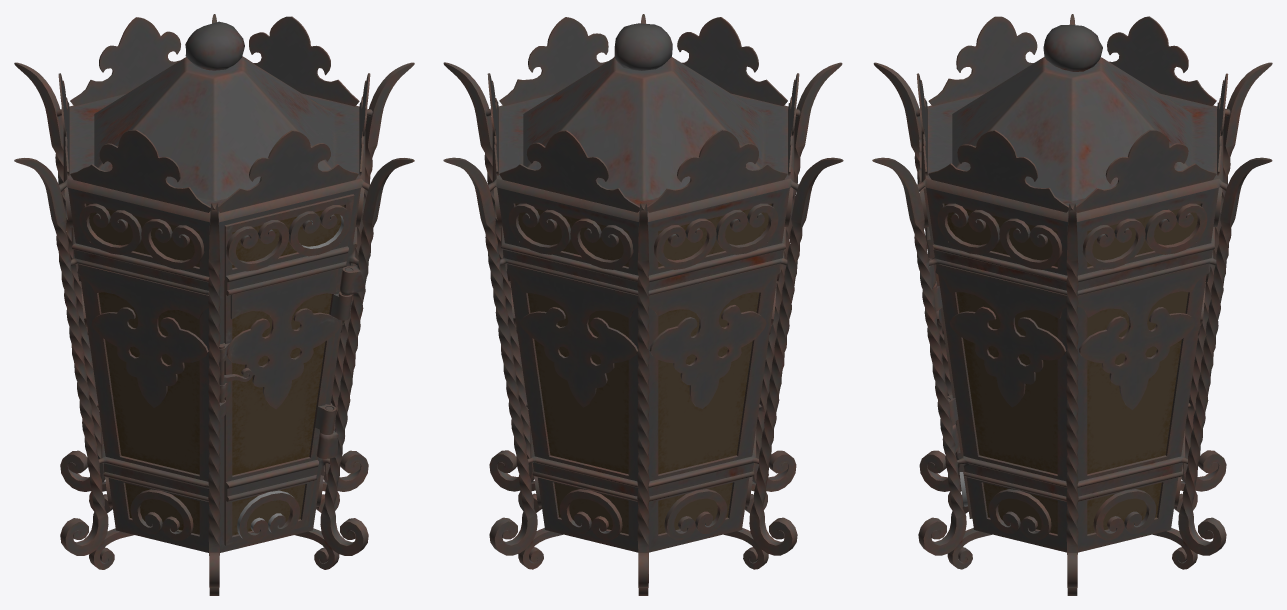
The picture shows the model from 3 angles, left to right: view 1: azimuth 30°, elevation 25°; view 2: azimuth 150°, elevation 25°; view 3: azimuth 270°, elevation 25°; orthographic projection.
Parts seen in each view (by area): view 1: node_Lantern_Main_-1022_4, node_Lantern_Door_-1016_1, node_Lantern_MainGlass_-1024_5, node_Lantern_DoorGlass_-1018_2; view 2: node_Lantern_Main_-1022_4, node_Lantern_MainGlass_-1024_5; view 3: node_Lantern_Main_-1022_4, node_Lantern_MainGlass_-1024_5, node_Lantern_Door_-1016_1.
Boxes of the visible parts, x1,y1,x2,y2 form: node_Lantern_Main_-1022_4: (14, 14, 414, 595); node_Lantern_Door_-1016_1: (219, 194, 354, 545); node_Lantern_MainGlass_-1024_5: (86, 204, 199, 534); node_Lantern_DoorGlass_-1018_2: (232, 205, 344, 535); node_Lantern_Main_-1022_4: (443, 14, 843, 595); node_Lantern_MainGlass_-1024_5: (515, 204, 771, 534); node_Lantern_Main_-1022_4: (872, 14, 1272, 595); node_Lantern_MainGlass_-1024_5: (944, 204, 1200, 534); node_Lantern_Door_-1016_1: (919, 138, 972, 518).
Size of the model in its own units: 0.7111 by 0.8732 by 0.6167.
2 materials, 2 textured.
